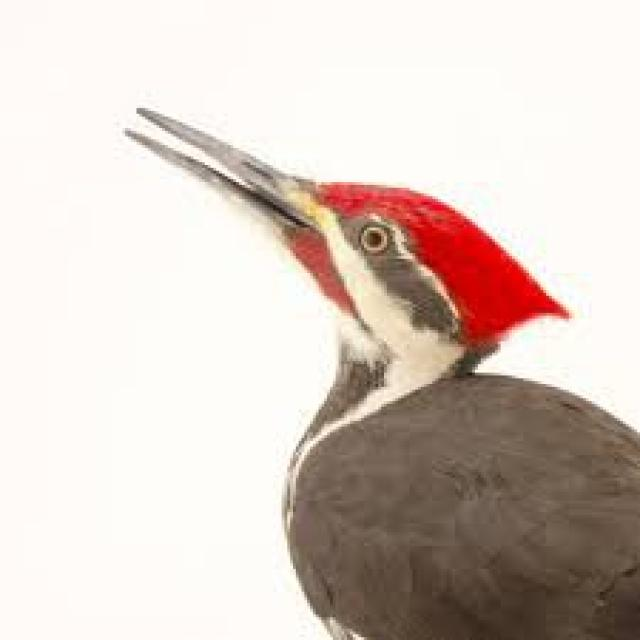Woodpecker: (120, 93, 640, 640)
